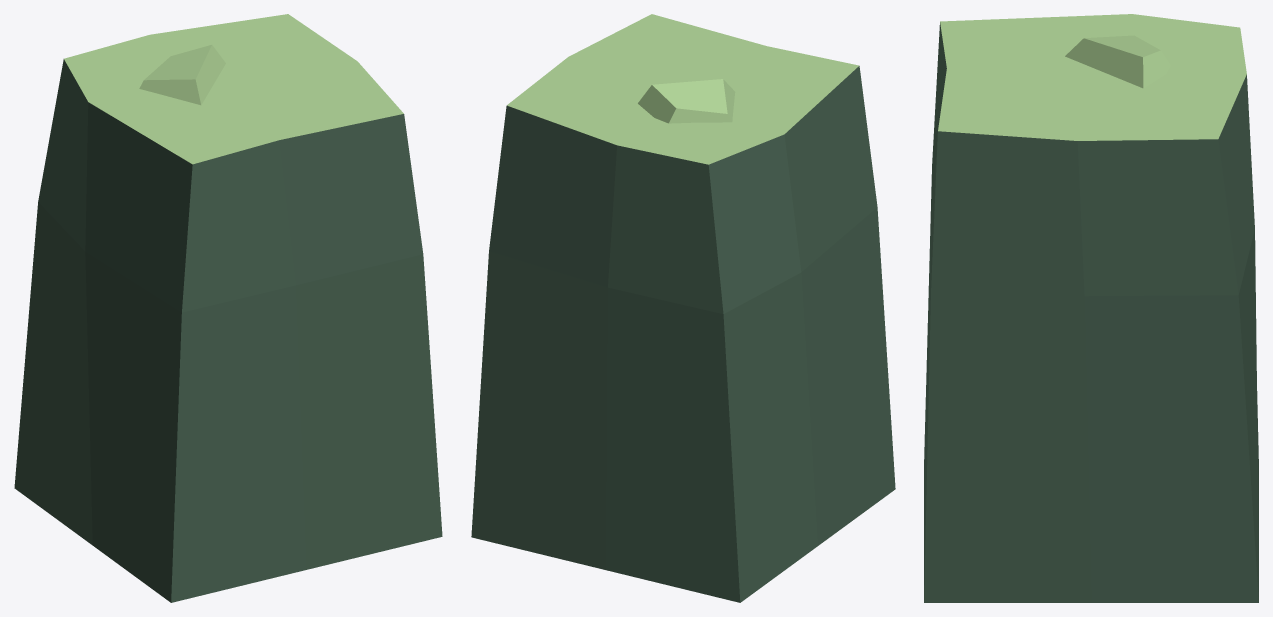
File: Island05.fbx
The picture shows the model from 3 angles, left to right: view 1: azimuth 30°, elevation 25°; view 2: azimuth 150°, elevation 25°; view 3: azimuth 270°, elevation 25°; orthographic projection. The views are drawn at different scales.
Parts seen in each view (by area): view 1: Plane.018; view 2: Plane.018; view 3: Plane.018.
Boxes of the visible parts, box(x1,y1,x2,y2) form: Plane.018: box(14, 14, 442, 602); Plane.018: box(471, 14, 895, 602); Plane.018: box(924, 14, 1258, 602).
Size of the model in its own units: 100 by 158 by 100.
